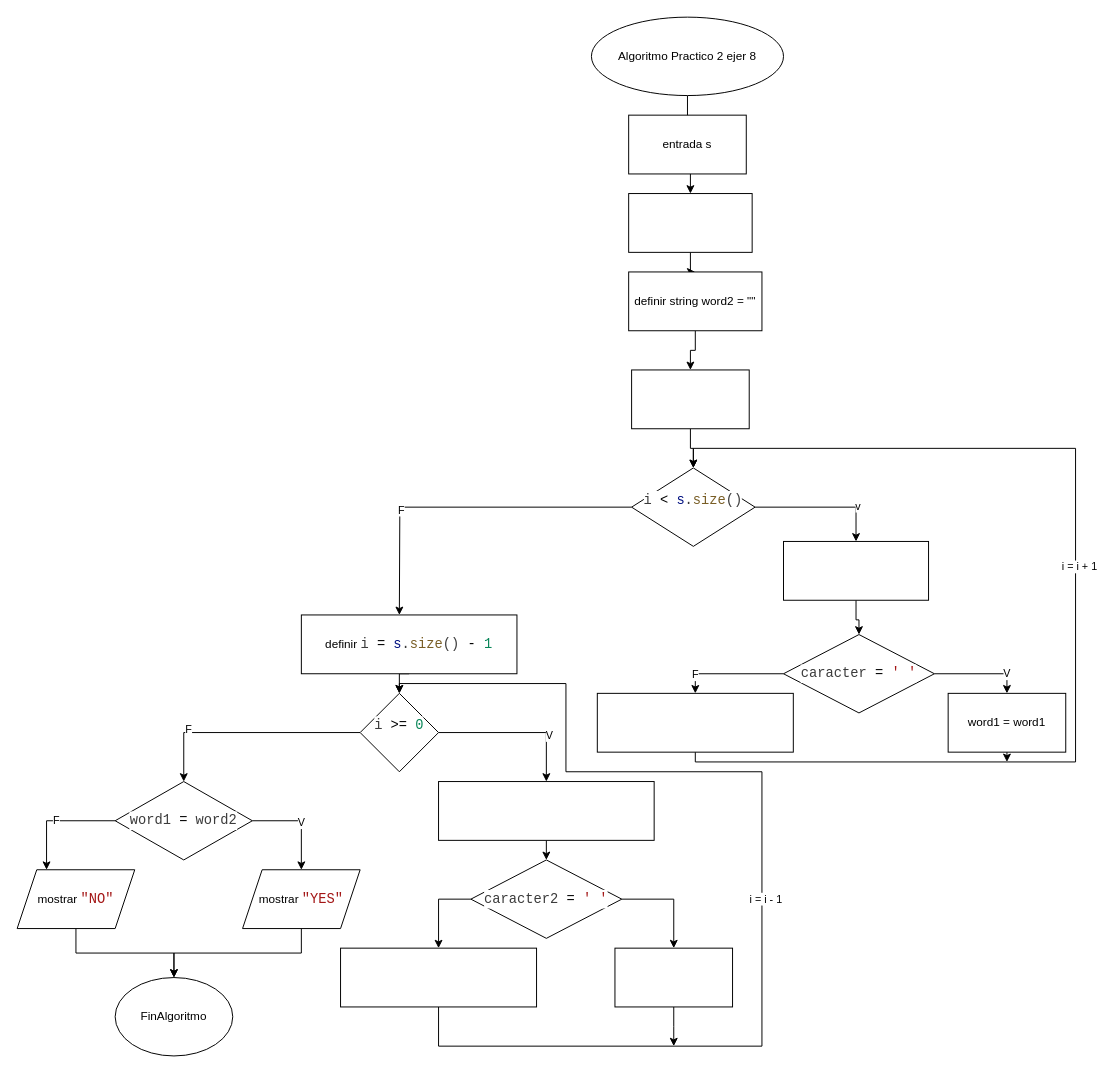
This 1113x1073 diagram has some shape labels left out. The box of each missing label's shape, as (x1, y1, x2, y2) in pixels:
definir char caracter = s[i]: (783, 540, 929, 600)
definir char caracter2 = s [i]: (438, 781, 654, 840)
definir i = 0: (631, 369, 749, 429)
definir string word1 = "": (628, 193, 752, 252)
word1 = word1 + caracter: (596, 692, 793, 752)
word2 = word2: (614, 947, 733, 1007)
word2 = word2 + caracter2: (340, 947, 537, 1007)
